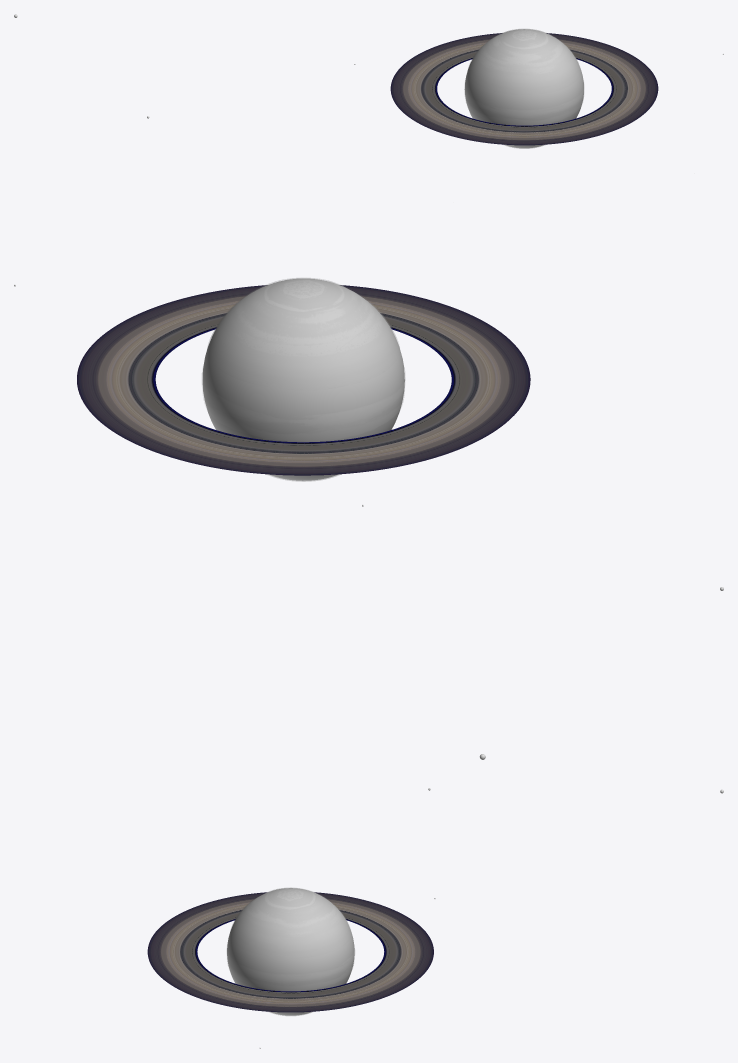
The model's file is saturn_planet.obj.
The picture shows the model from 3 angles, top to bottom: view 1: azimuth 30°, elevation 25°; view 2: azimuth 150°, elevation 25°; view 3: azimuth 270°, elevation 25°; orthographic projection. The views are drawn at different scales.
Parts seen in each view (by area): view 1: Saturn_Rings_Material_63_0, Saturn_Material_50_0, Saturn_Clouds_Material_62_0; view 2: Saturn_Rings_Material_63_0, Saturn_Material_50_0, Saturn_Clouds_Material_62_0; view 3: Saturn_Rings_Material_63_0, Saturn_Material_50_0, Saturn_Clouds_Material_62_0.
Boxes of the visible parts, bbox=[...] form: Saturn_Rings_Material_63_0: bbox=[390, 33, 658, 145]; Saturn_Material_50_0: bbox=[464, 29, 583, 148]; Saturn_Clouds_Material_62_0: bbox=[464, 29, 584, 148]; Saturn_Rings_Material_63_0: bbox=[77, 285, 530, 475]; Saturn_Material_50_0: bbox=[202, 278, 404, 480]; Saturn_Clouds_Material_62_0: bbox=[202, 278, 405, 481]; Saturn_Rings_Material_63_0: bbox=[147, 892, 433, 1012]; Saturn_Material_50_0: bbox=[227, 888, 354, 1015]; Saturn_Clouds_Material_62_0: bbox=[226, 887, 354, 1015].
Bounding box in the file's own units: 9.97 × 2.09 × 11.51.
